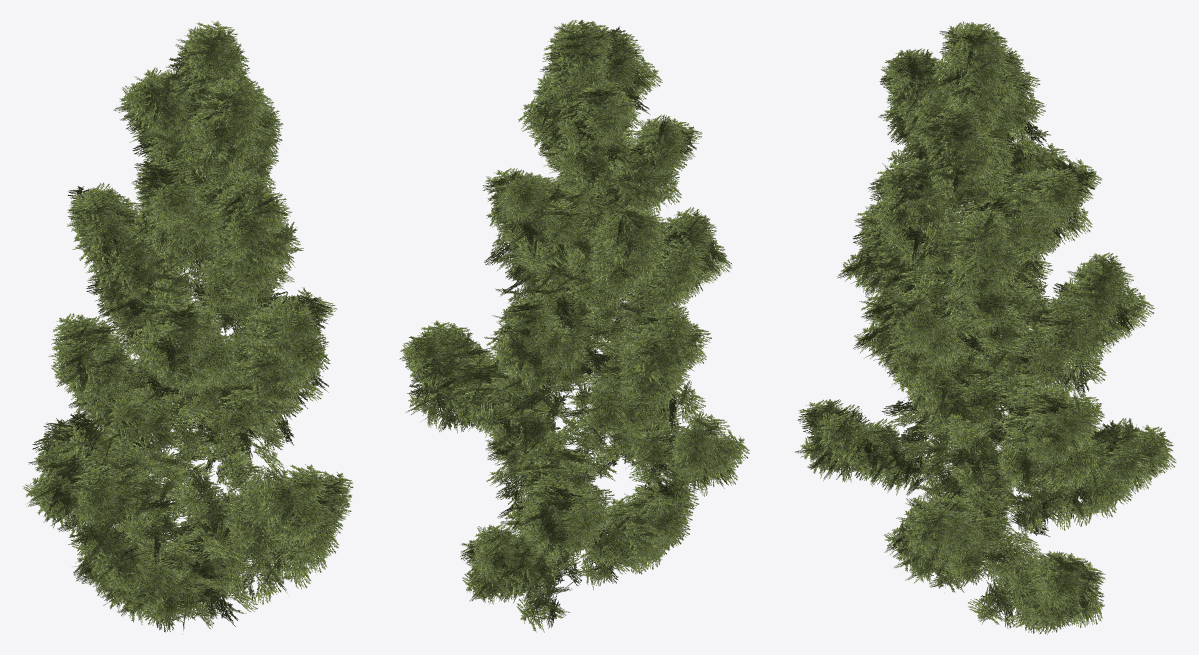
File: tree.obj
3 views of the same model, side by side, from view 1: azimuth 30°, elevation 25°; view 2: azimuth 150°, elevation 25°; view 3: azimuth 270°, elevation 25° (orthographic). The views are drawn at different scales.
Parts seen in each view (by area): view 1: leaves.001; view 2: leaves.001; view 3: leaves.001.
Part boxes in pixels (x1,y1,x2,y2): leaves.001: (23, 21, 353, 633); leaves.001: (399, 20, 749, 632); leaves.001: (795, 21, 1176, 634).
Bounding box in the file's own units: 5.32 × 9.41 × 5.53.
Materials: 1 (1 with a texture image).
